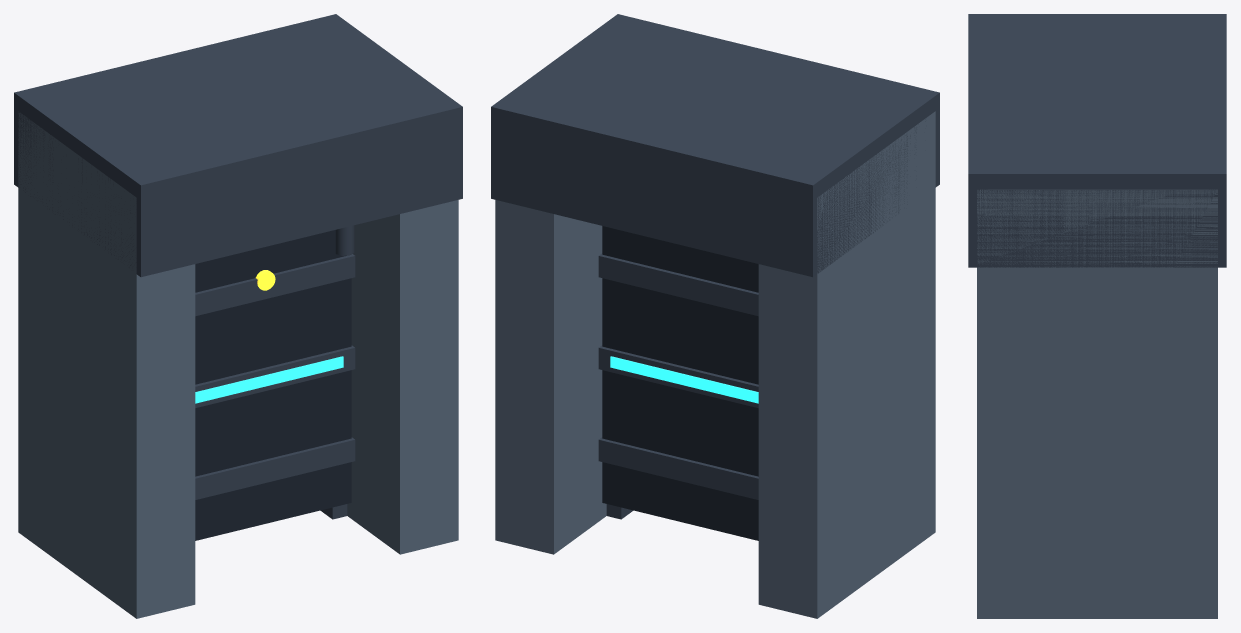
Rendered from door_bulkhead.glb.
The picture shows the model from 3 angles, left to right: view 1: azimuth 30°, elevation 25°; view 2: azimuth 150°, elevation 25°; view 3: azimuth 270°, elevation 25°; orthographic projection.
Parts seen in each view (by area): view 1: Security_Bulkhead_Gate_System, Sliding_Slab; view 2: Security_Bulkhead_Gate_System, Sliding_Slab; view 3: Security_Bulkhead_Gate_System.
Part boxes in pixels (box(x1,y1,x2,y2)): Security_Bulkhead_Gate_System: box(14, 14, 462, 618); Sliding_Slab: box(195, 230, 355, 540); Security_Bulkhead_Gate_System: box(491, 14, 939, 618); Sliding_Slab: box(598, 226, 758, 540); Security_Bulkhead_Gate_System: box(968, 14, 1226, 618).
Bounding box in the file's own units: 4.4 × 5.7 × 3.
